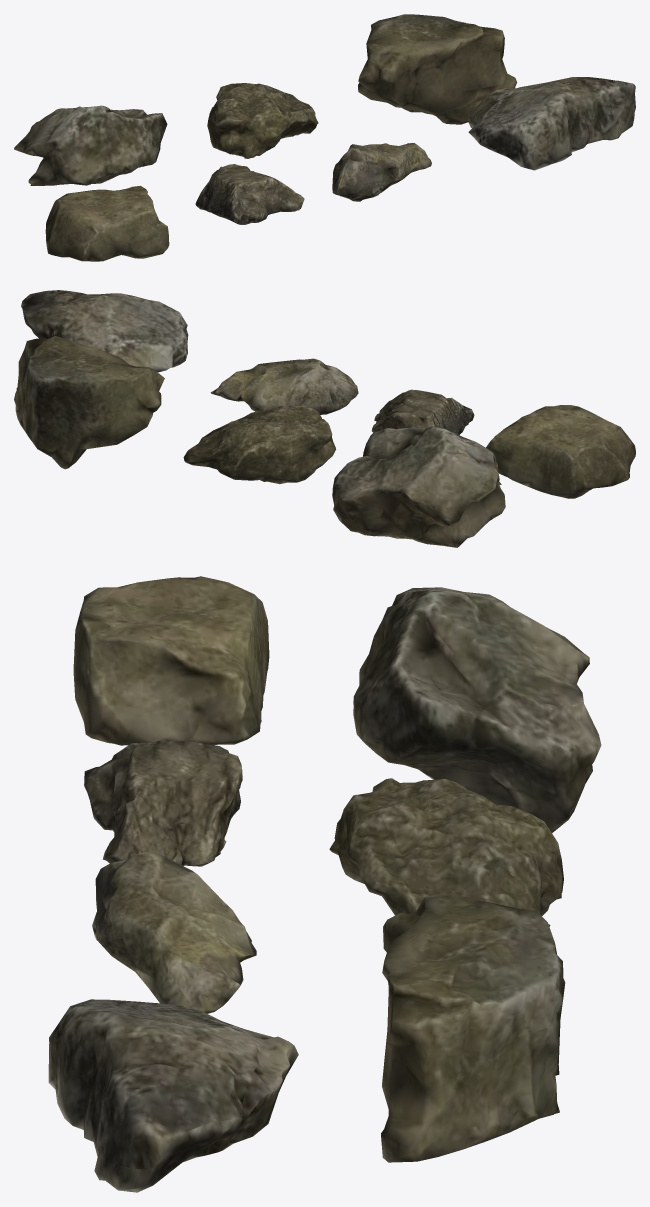
Rendered from rocks_b.glb.
3 renders of one model, top to bottom at view 1: azimuth 30°, elevation 25°; view 2: azimuth 150°, elevation 25°; view 3: azimuth 270°, elevation 25°, orthographic. The views are drawn at different scales.
Visible parts, largest first — view 1: rock_moss_set_02_rock08; view 2: rock_moss_set_02_rock08; view 3: rock_moss_set_02_rock08.
Part boxes in pixels (bbox=[...]): rock_moss_set_02_rock08: bbox=[14, 14, 635, 261]; rock_moss_set_02_rock08: bbox=[14, 290, 635, 547]; rock_moss_set_02_rock08: bbox=[48, 576, 601, 1192].
Bounding box in the file's own units: 8.28 × 1.36 × 3.4.
Materials: 1 (1 with a texture image).
